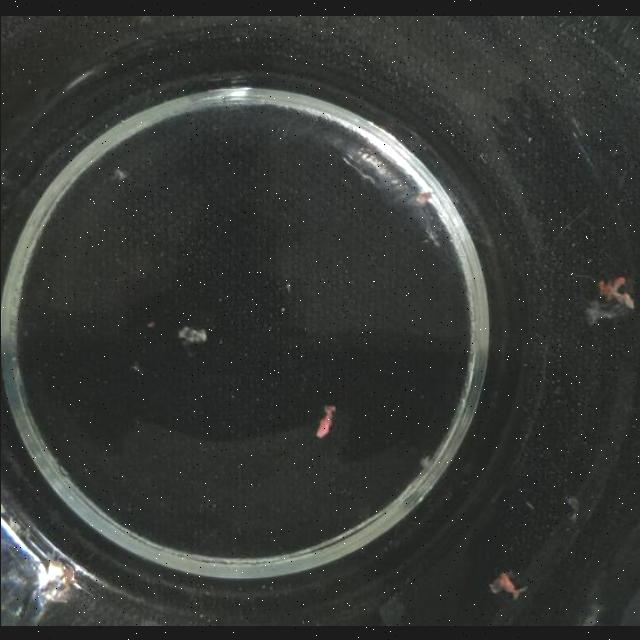Fibre: (176, 324, 207, 344)
Fragment: (585, 270, 633, 318), (494, 566, 528, 604), (314, 402, 344, 438)
microbeads: (110, 167, 128, 181)
